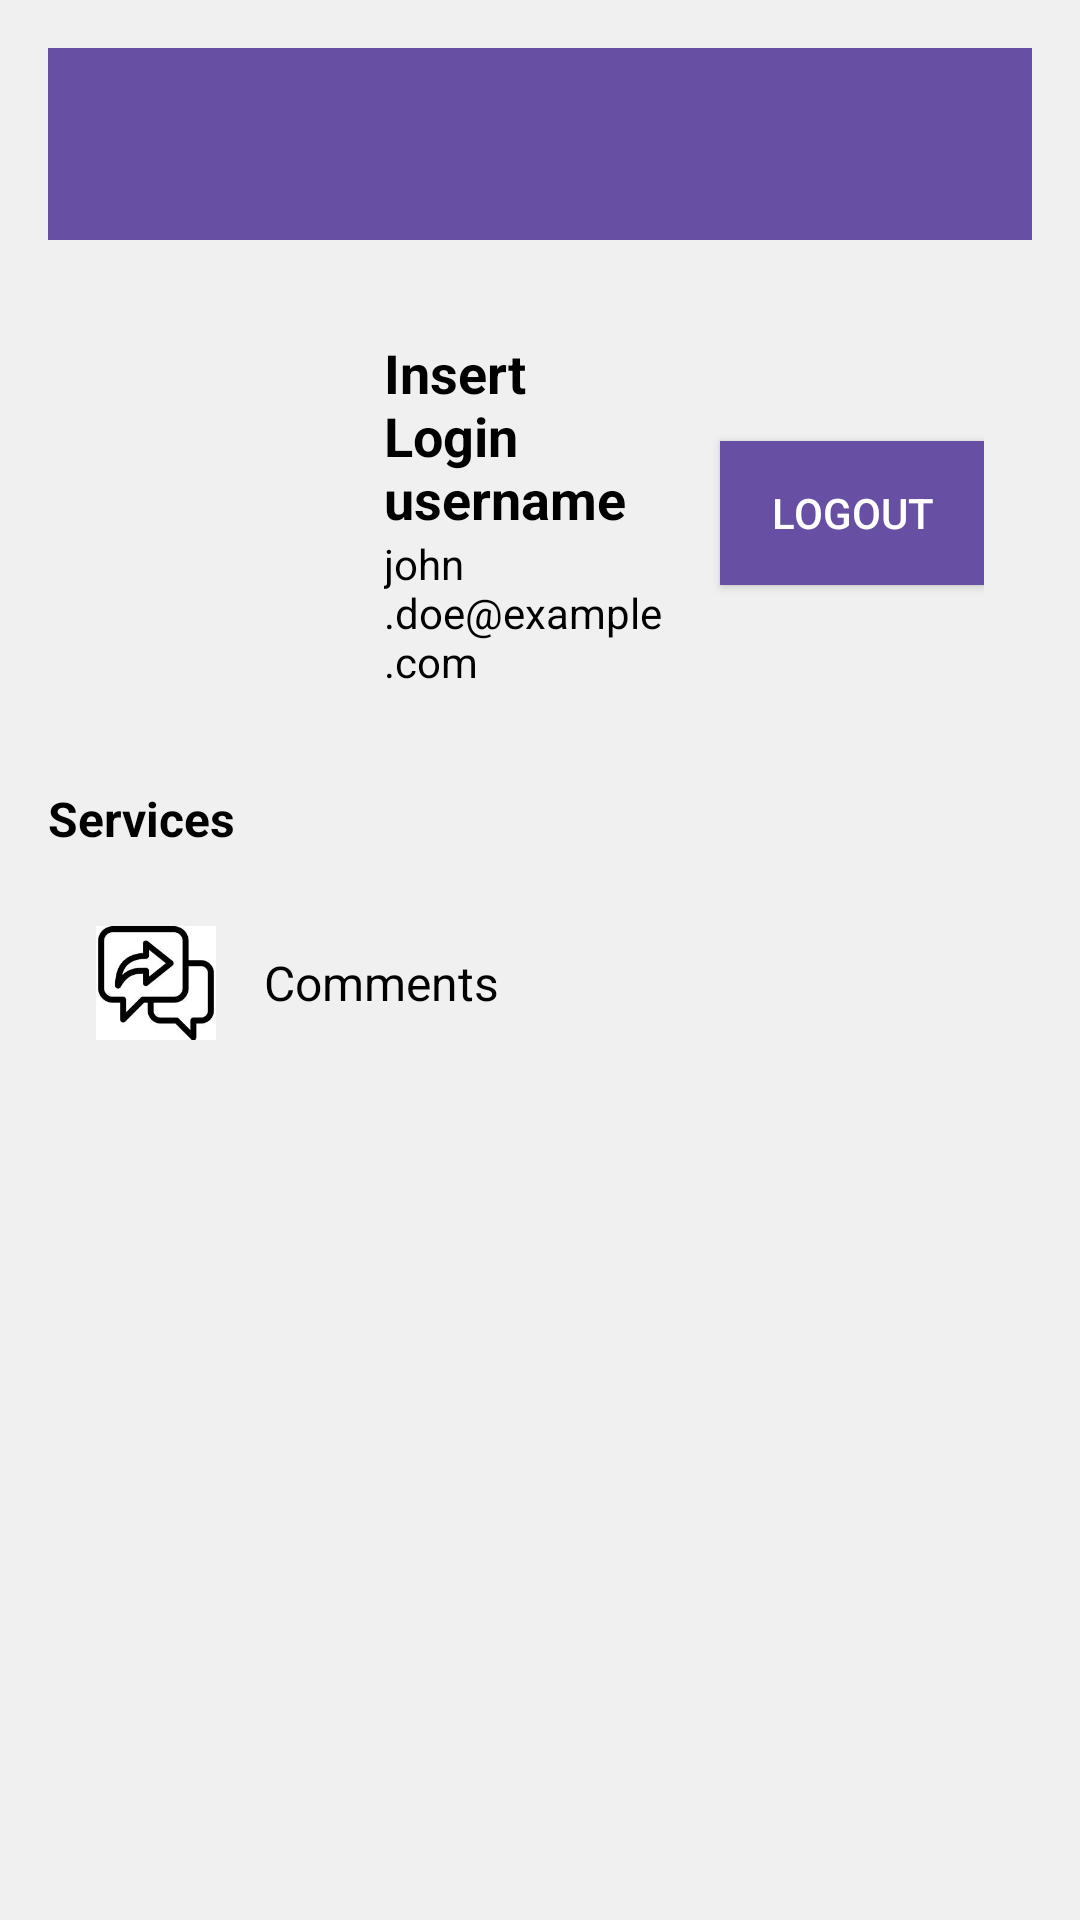

Locate icon controls on the screen. Image size 1080*1920, boxes as (x1, y1, x2, y2).
respond: (96, 926, 216, 1040)
